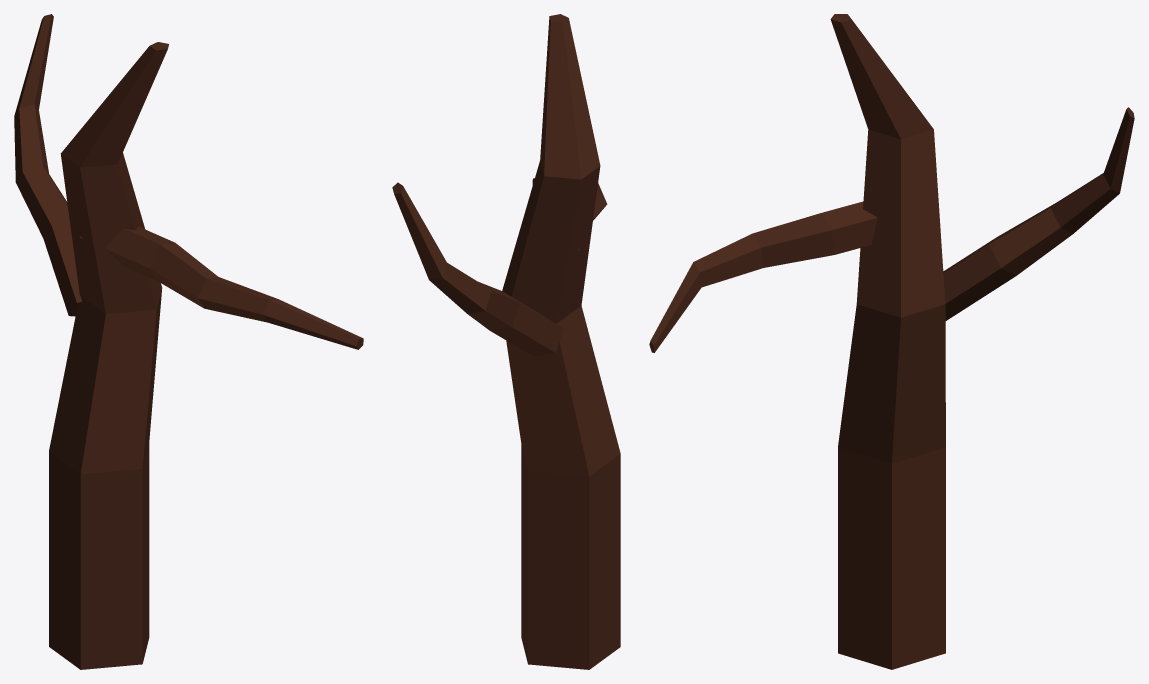
Rendered from tree9.fbx.
3 views of the same model, side by side, from view 1: azimuth 30°, elevation 25°; view 2: azimuth 150°, elevation 25°; view 3: azimuth 270°, elevation 25° (orthographic). The views are drawn at different scales.
Visible parts, largest first — view 1: Cylinder, Cylinder_2, Cylinder_1; view 2: Cylinder, Cylinder_1; view 3: Cylinder, Cylinder_1, Cylinder_2.
Boxes of the visible parts, bbox=[...] form: Cylinder: bbox=[49, 42, 168, 669]; Cylinder_2: bbox=[80, 226, 363, 349]; Cylinder_1: bbox=[14, 14, 82, 316]; Cylinder: bbox=[502, 14, 620, 669]; Cylinder_1: bbox=[392, 182, 563, 356]; Cylinder: bbox=[830, 14, 945, 669]; Cylinder_1: bbox=[943, 107, 1134, 320]; Cylinder_2: bbox=[649, 201, 877, 352].
Bounding box in the file's own units: 199 × 626 × 427.
